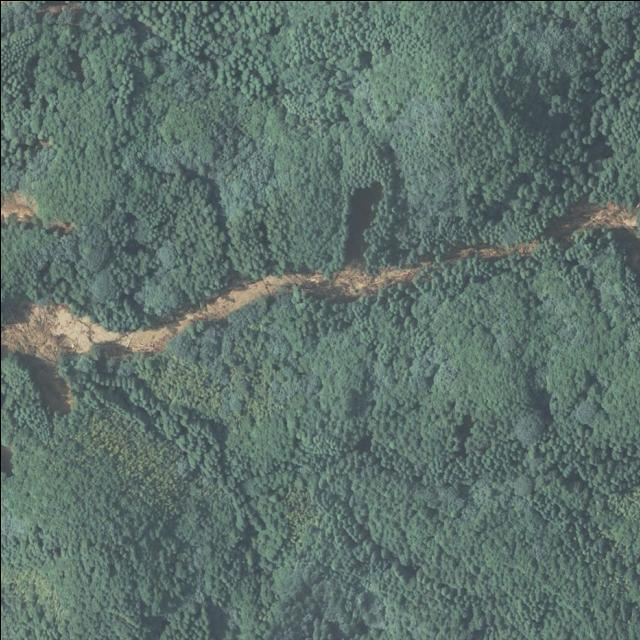landslide: (0, 194, 431, 406), (543, 201, 640, 237), (440, 238, 540, 259)
